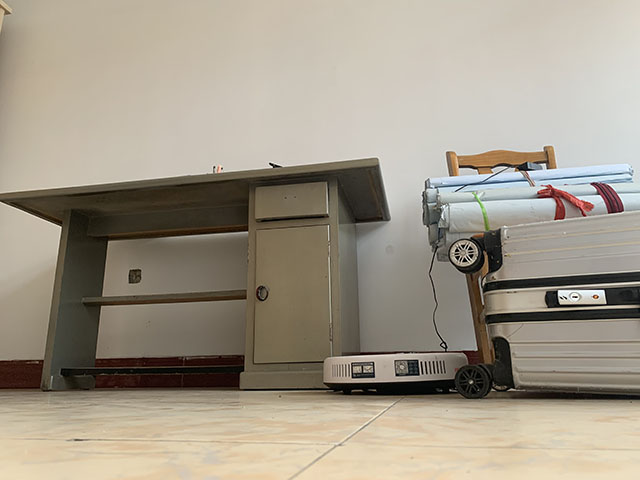table: (1, 156, 393, 391)
